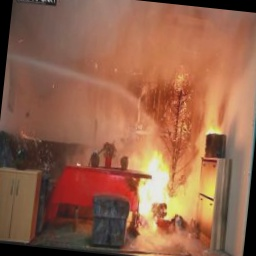fire: (131, 148, 191, 217)
